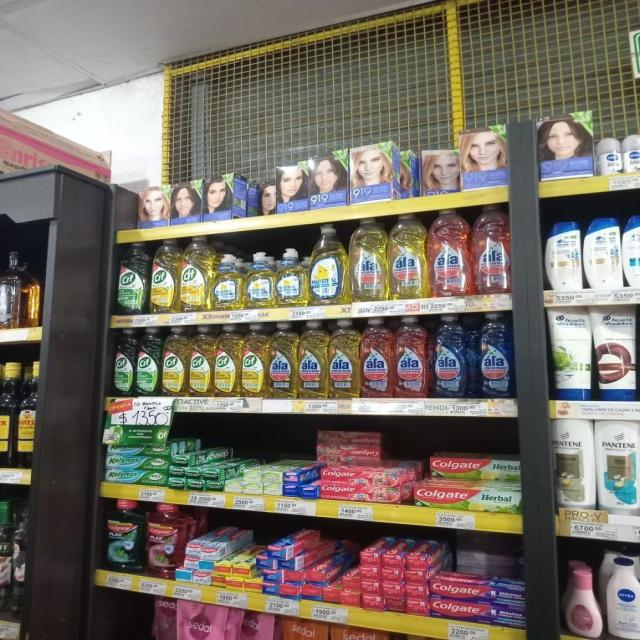ala_conc_amarillo: (389, 212, 427, 300), (350, 216, 388, 302), (328, 318, 359, 399), (298, 319, 327, 399), (269, 321, 297, 398)
ala_conc_azul: (432, 313, 472, 399), (476, 311, 515, 399)
ala_conc_rojo: (428, 207, 471, 298), (473, 204, 513, 295), (394, 315, 429, 399), (361, 316, 393, 398)
ala_crem_rosado: (335, 626, 387, 640)
cif_conc_bot_amarilla: (180, 236, 210, 312), (150, 238, 179, 314), (241, 322, 268, 398), (214, 324, 240, 397), (162, 325, 188, 397), (189, 325, 213, 397)
cif_conc_botella_verde: (115, 240, 148, 315), (136, 326, 161, 397), (111, 327, 136, 397)
magistral_con_amarillo: (309, 223, 348, 305), (276, 248, 308, 307), (212, 252, 242, 311), (245, 251, 275, 308)
